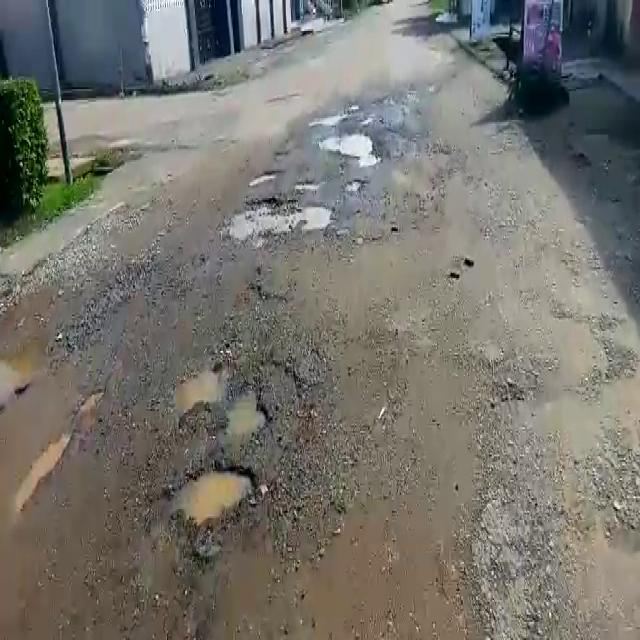Pothole: (174, 364, 270, 444), (167, 463, 262, 527), (218, 195, 332, 242), (320, 126, 380, 162), (248, 170, 283, 187)
